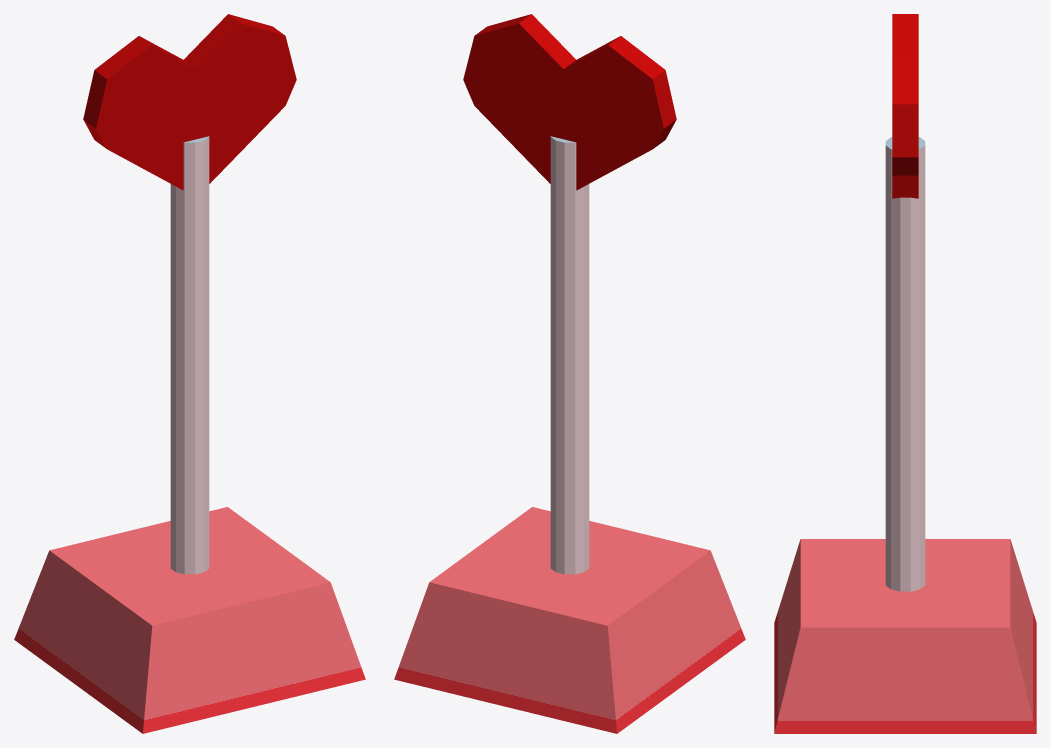
Rendered from Lever.gltf.
3 views of the same model, side by side, from view 1: azimuth 30°, elevation 25°; view 2: azimuth 150°, elevation 25°; view 3: azimuth 270°, elevation 25° (orthographic).
Parts seen in each view (by area): view 1: mesh, group, cylinder; view 2: mesh, group, cylinder; view 3: mesh, cylinder, group.
Part boxes in pixels (x1,y1,x2,y2): mesh: (14,507,365,733); group: (83,14,296,190); cylinder: (170,136,209,574); mesh: (394,507,745,733); group: (463,14,676,190); cylinder: (550,136,589,574); mesh: (774,539,1036,733); cylinder: (885,137,925,591); group: (892,14,918,198).
Bounding box in the file's own units: 1.25 × 3.38 × 1.25.
3 materials, 3 textured.
